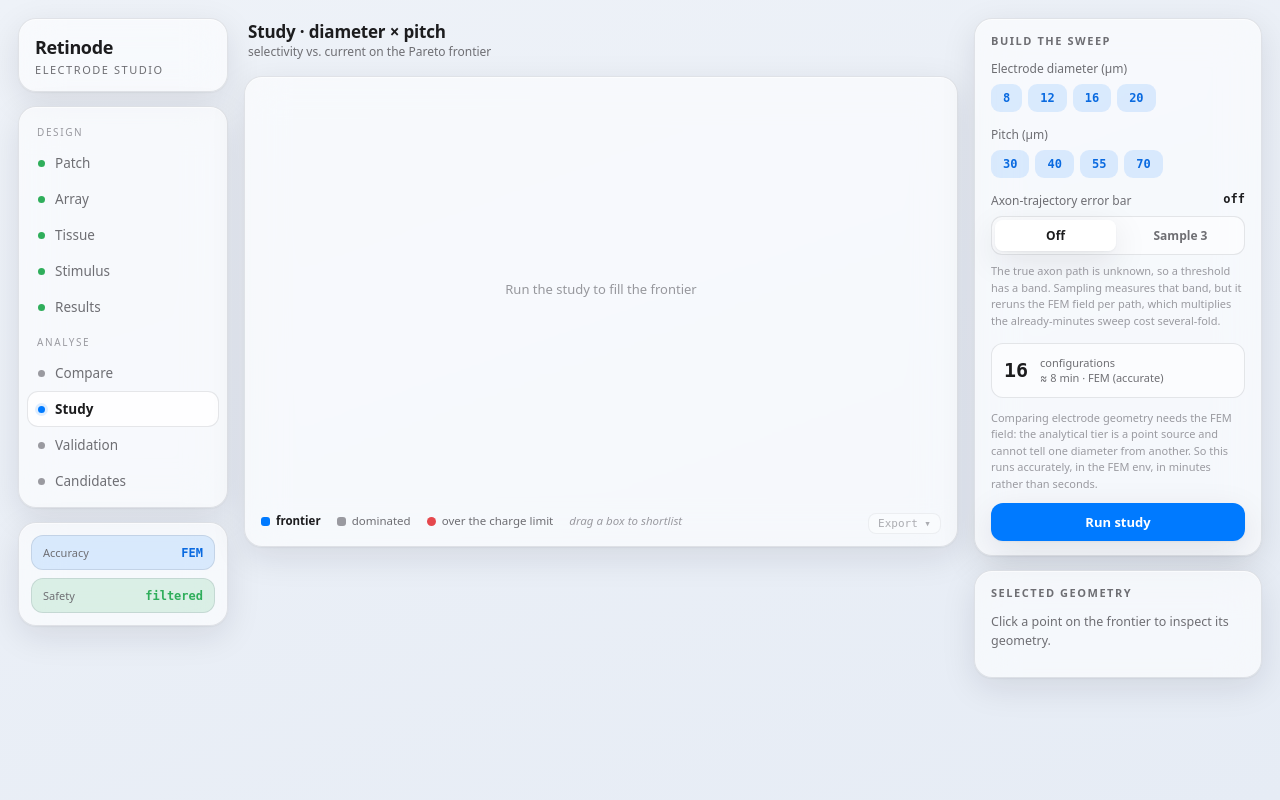
Test: Study › shrinks the estimate when a diameter is removed
The image size is (1280, 800).
Click the button "8" at (1007, 98), box [991,84,1022,112]
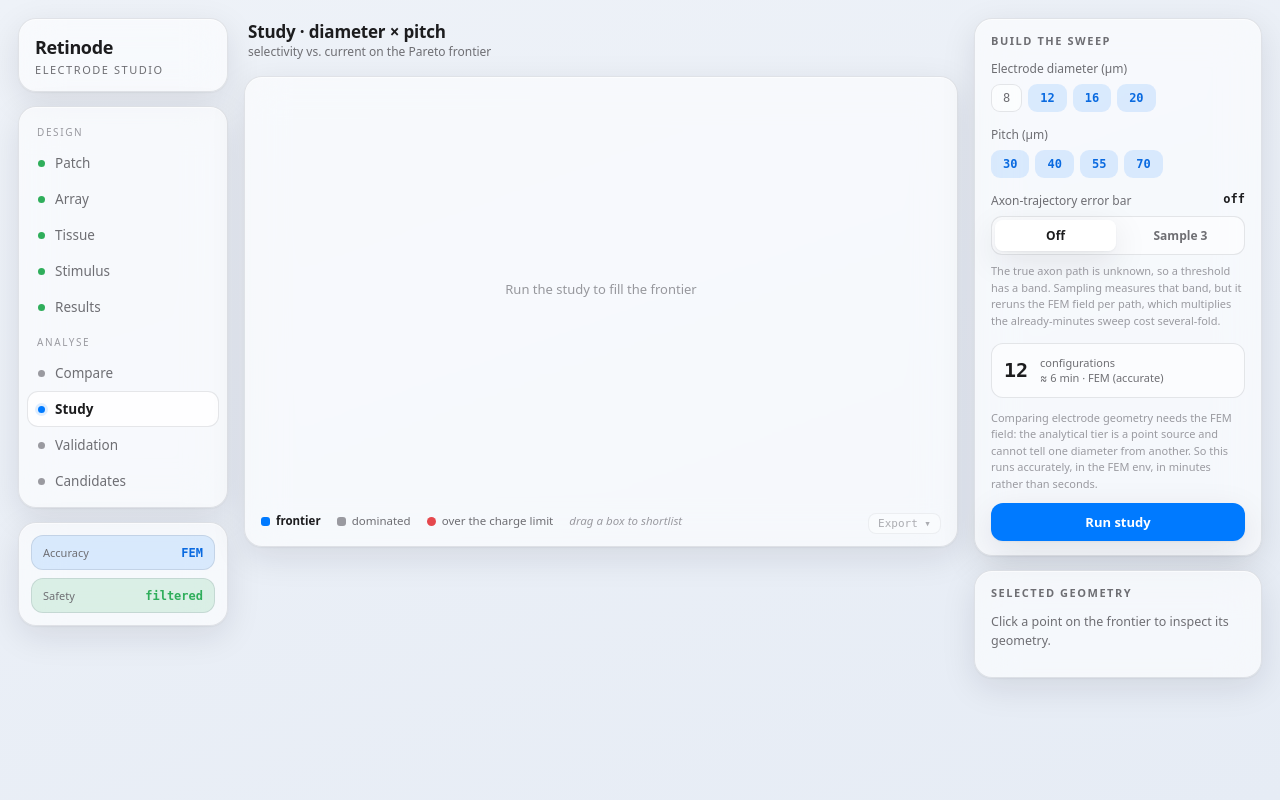
Now the text "12" is shown, box [1004,358,1028,382]
